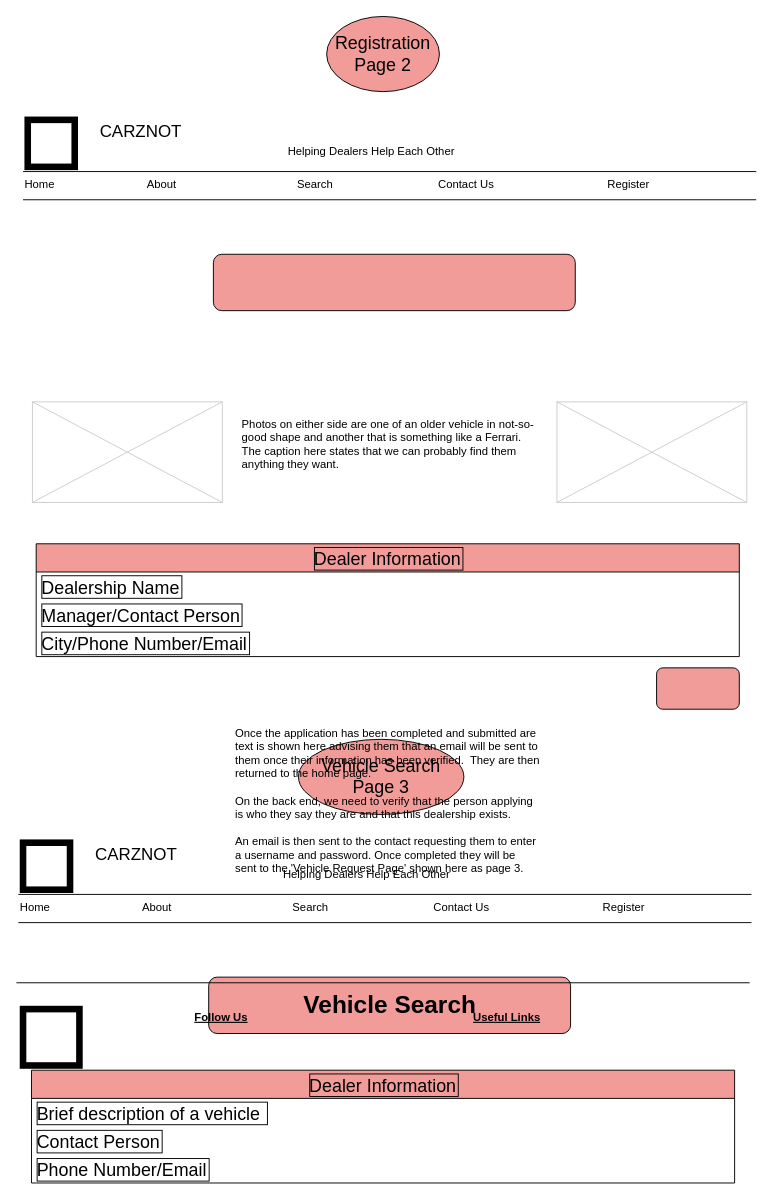
The diagram is 773 pixels wide and 1199 high, and some of its shapes have lost their labels. The shapes that lost their labels are listed below. From the top down, each one's centre as x and y in pixels, then its label:
the point at 393,282: Dealer Registration
the point at 697,688: Submit
